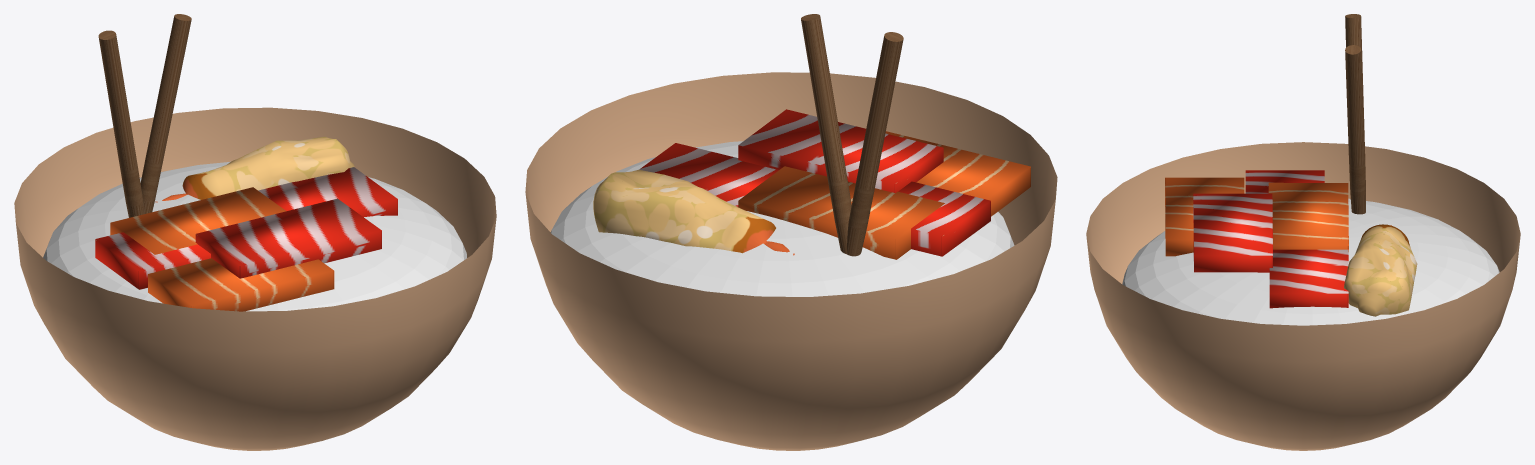
File: PokeBowl.fbx
3 renders of one model, left to right at view 1: azimuth 30°, elevation 25°; view 2: azimuth 150°, elevation 25°; view 3: azimuth 270°, elevation 25°, orthographic. The views are drawn at different scales.
Parts seen in each view (by area): view 1: Cylinder.028; view 2: Cylinder.028; view 3: Cylinder.028.
Boxes of the visible parts, x1,y1,x2,y2 form: Cylinder.028: (14,14,496,450); Cylinder.028: (525,14,1057,450); Cylinder.028: (1086,14,1520,450).
Size of the model in its own units: 290 by 263 by 290.
Materials: 9 (7 with a texture image).
